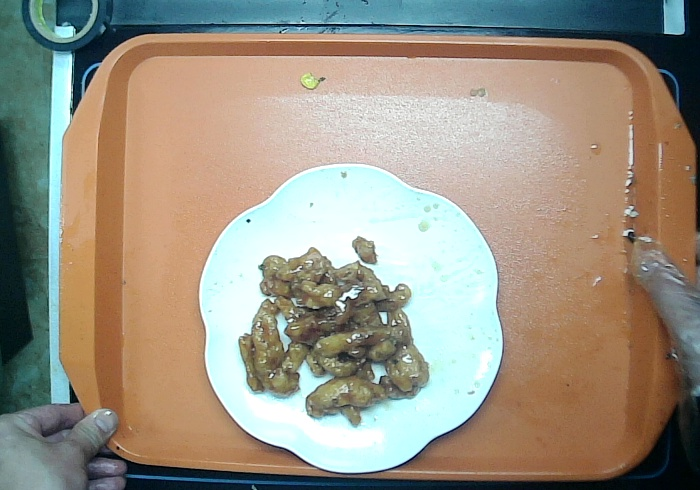HZYJPL-Bai_Se_Hua_Duo_Wan: (194, 162, 505, 476)
